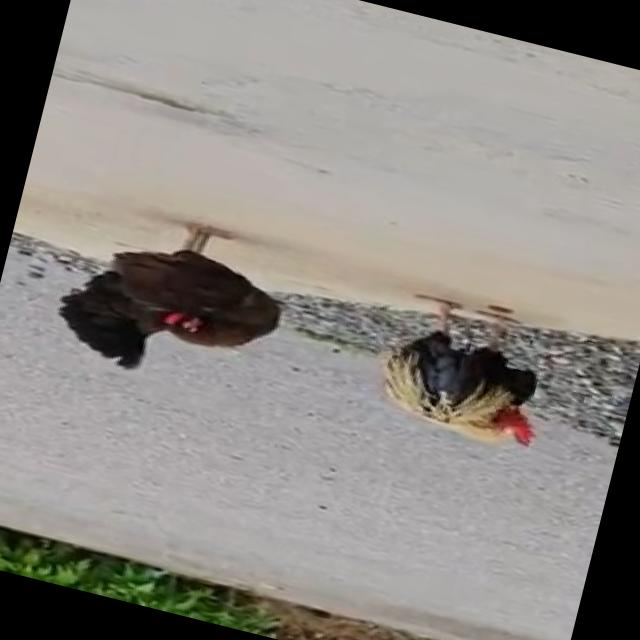self preening: (41, 193, 295, 404), (360, 287, 560, 456)
